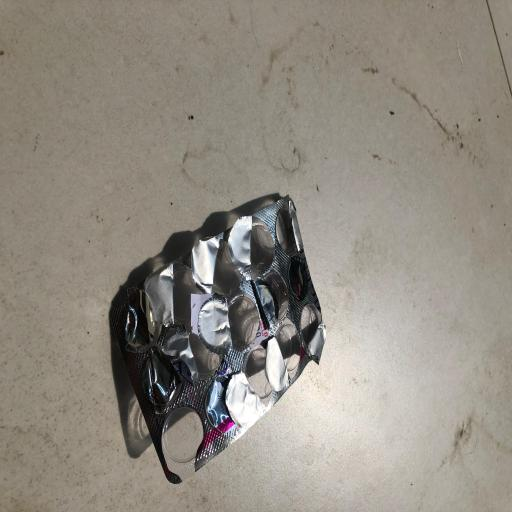waste: (107, 177, 329, 486)
